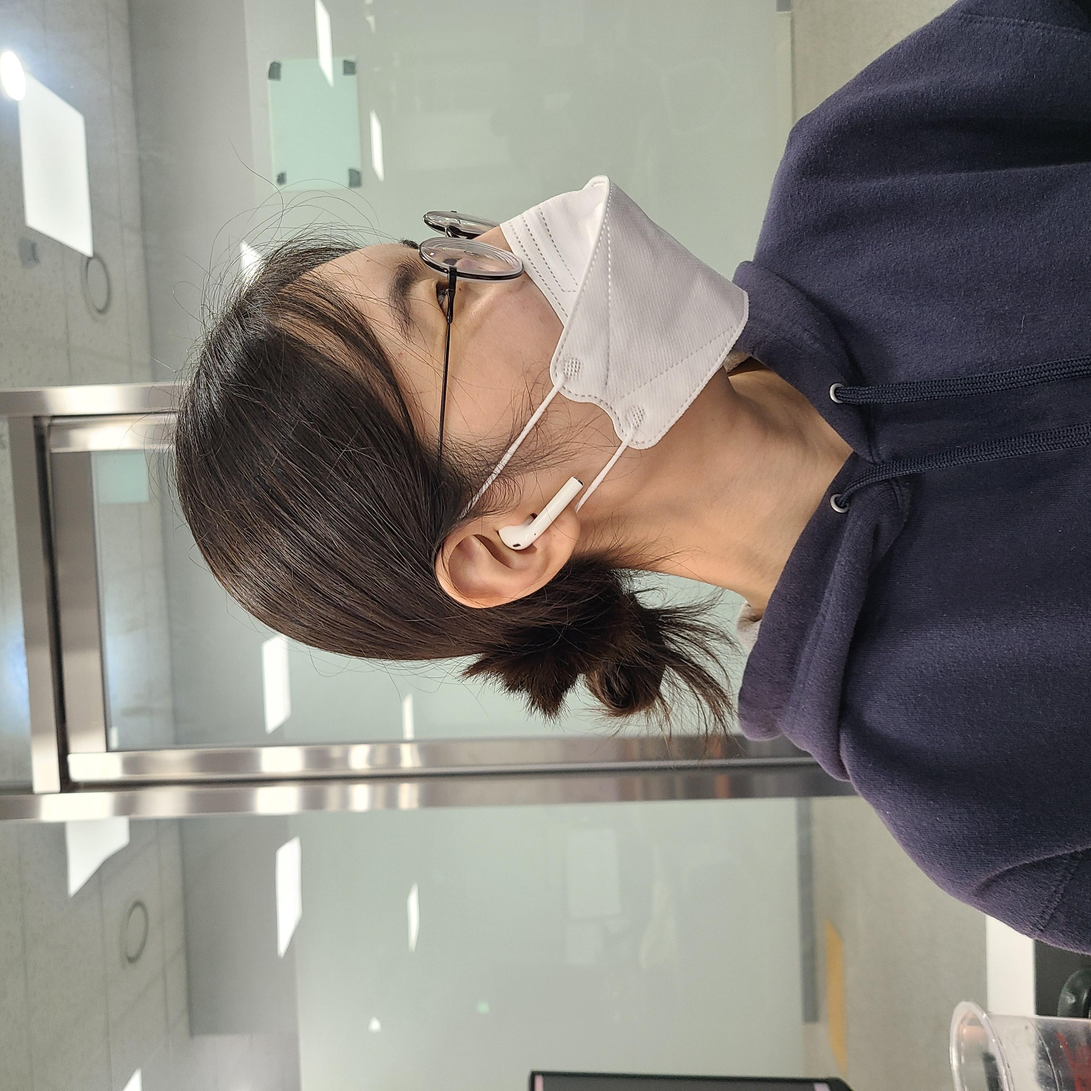earphone: (527, 491, 617, 597)
